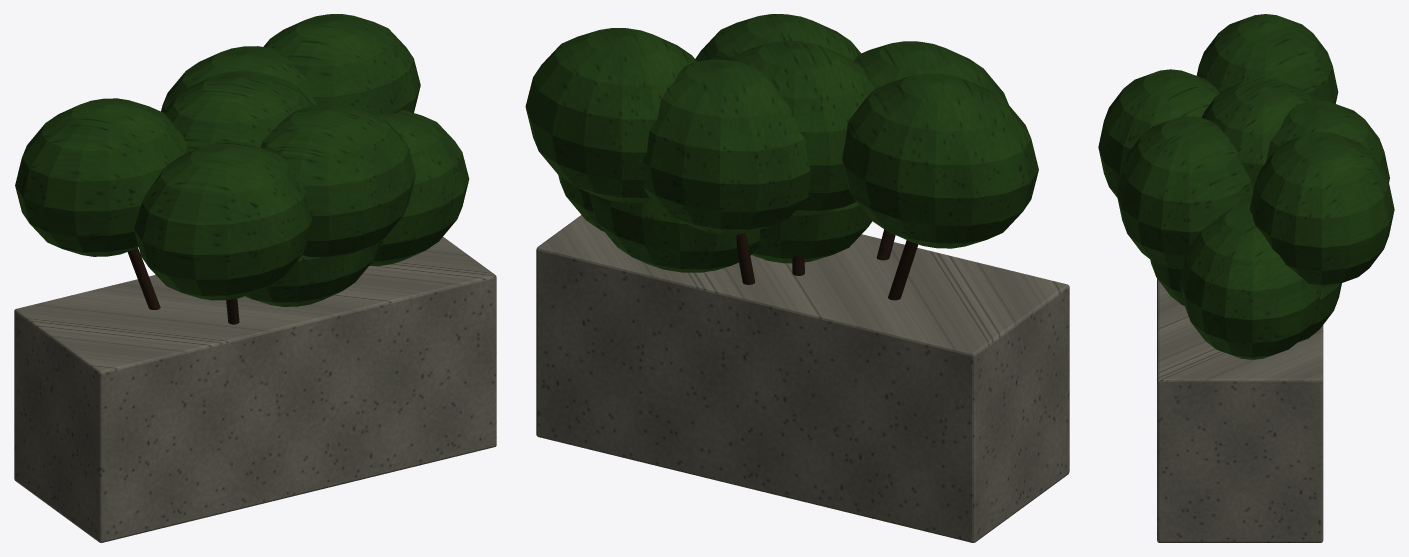
File: PROP-D9B4A3B9AFC2_lod0.glb
3 renders of one model, left to right at view 1: azimuth 30°, elevation 25°; view 2: azimuth 150°, elevation 25°; view 3: azimuth 270°, elevation 25°, orthographic. The views are drawn at different scales.
Visible parts, largest first — view 1: planter, foliage, plant_stem; view 2: planter, foliage, plant_stem; view 3: foliage, planter.
Part boxes in pixels (x1,y1,x2,y2): planter: [14, 237, 496, 542]; foliage: [15, 14, 469, 306]; plant_stem: [127, 248, 239, 324]; planter: [536, 215, 1069, 542]; foliage: [525, 14, 1038, 272]; plant_stem: [736, 229, 918, 300]; foliage: [1098, 14, 1394, 359]; planter: [1157, 278, 1323, 542].
Bounding box in the file's own units: 1.57 × 1.33 × 0.9806.
4 materials, 4 textured.
